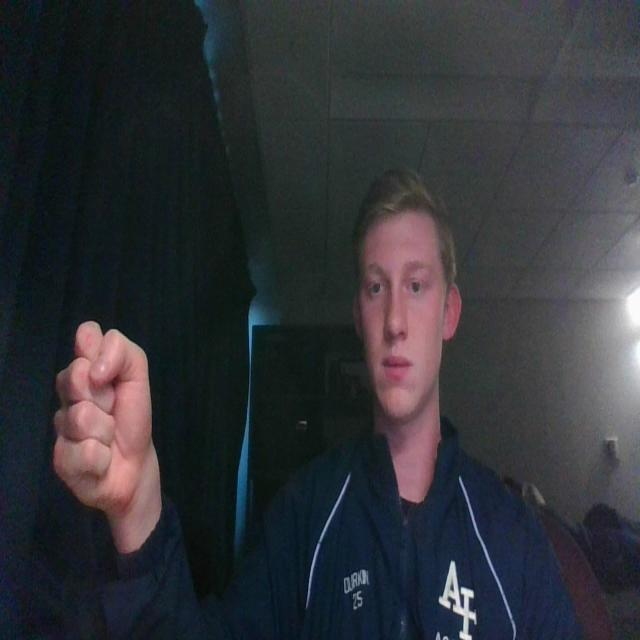rock: (47, 309, 168, 542)
